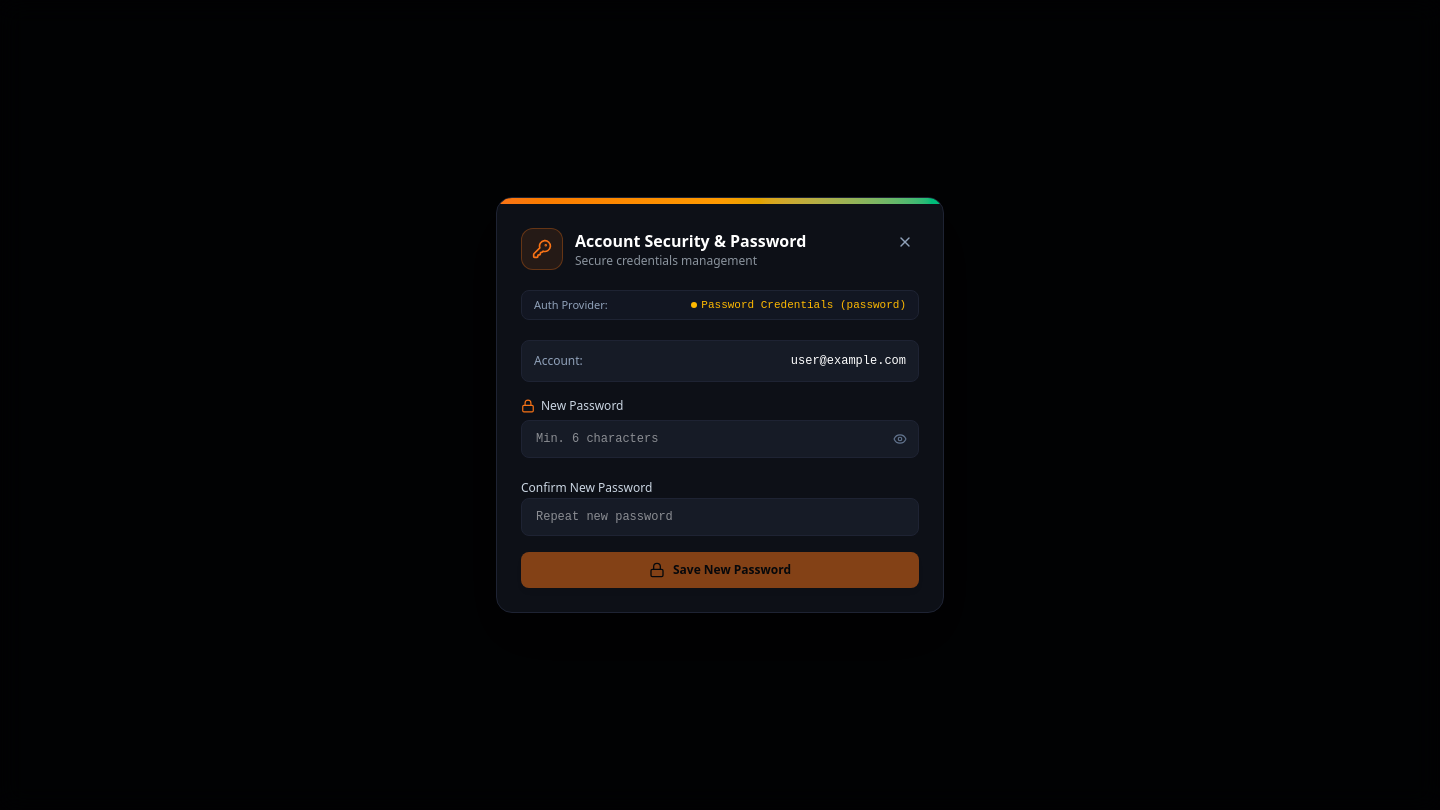
Test case: AuthActionModal Component Tests › Password Reset Flow (mode=resetPassword) › should handle auth/weak-password error on submission
Type "123456" into the password field with placeholder "Min. 6 characters".
click(720, 439); type("123456")  # box [521,420,919,458]
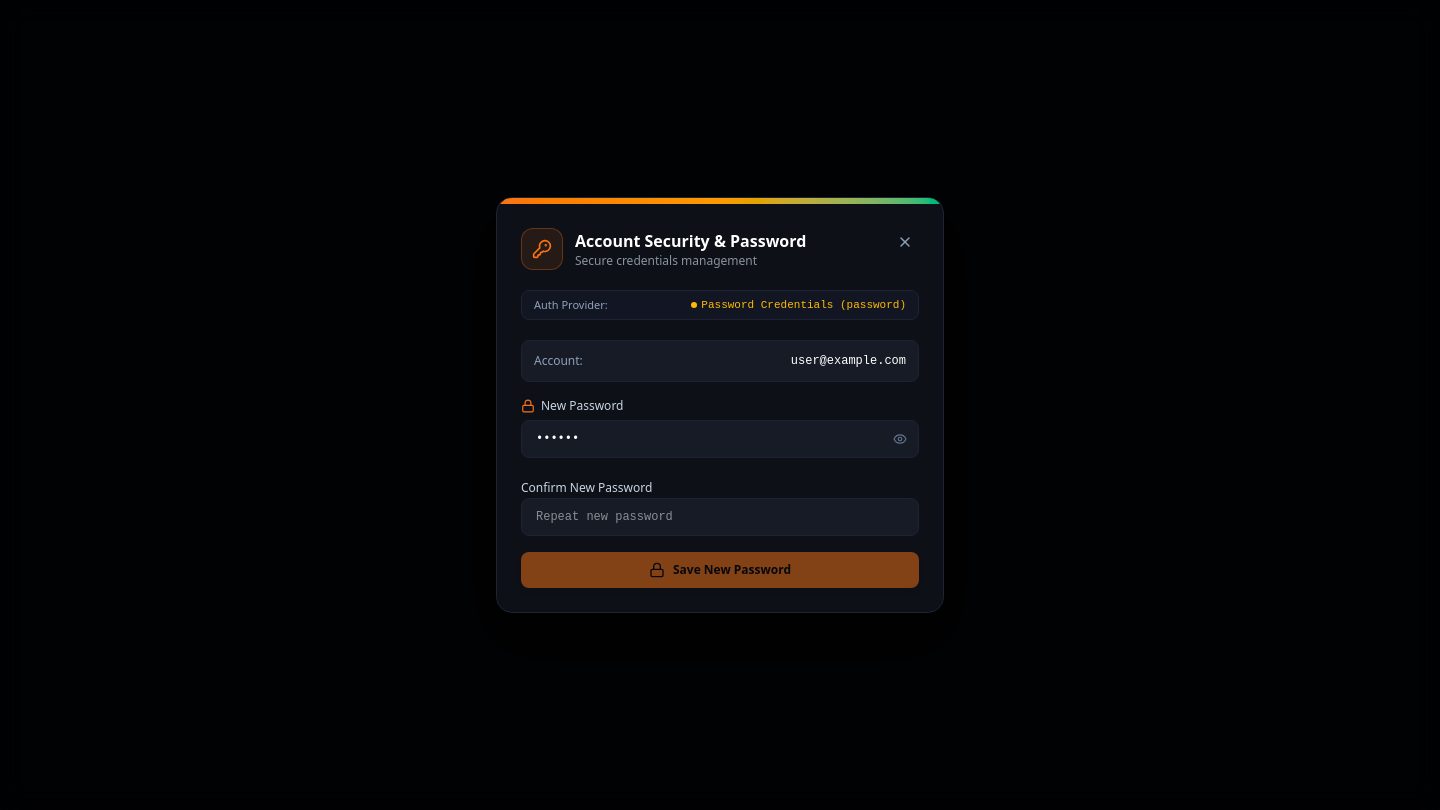
Type "123456" into the password field with placeholder "Repeat new password".
click(720, 517); type("123456")  # box [521,498,919,536]
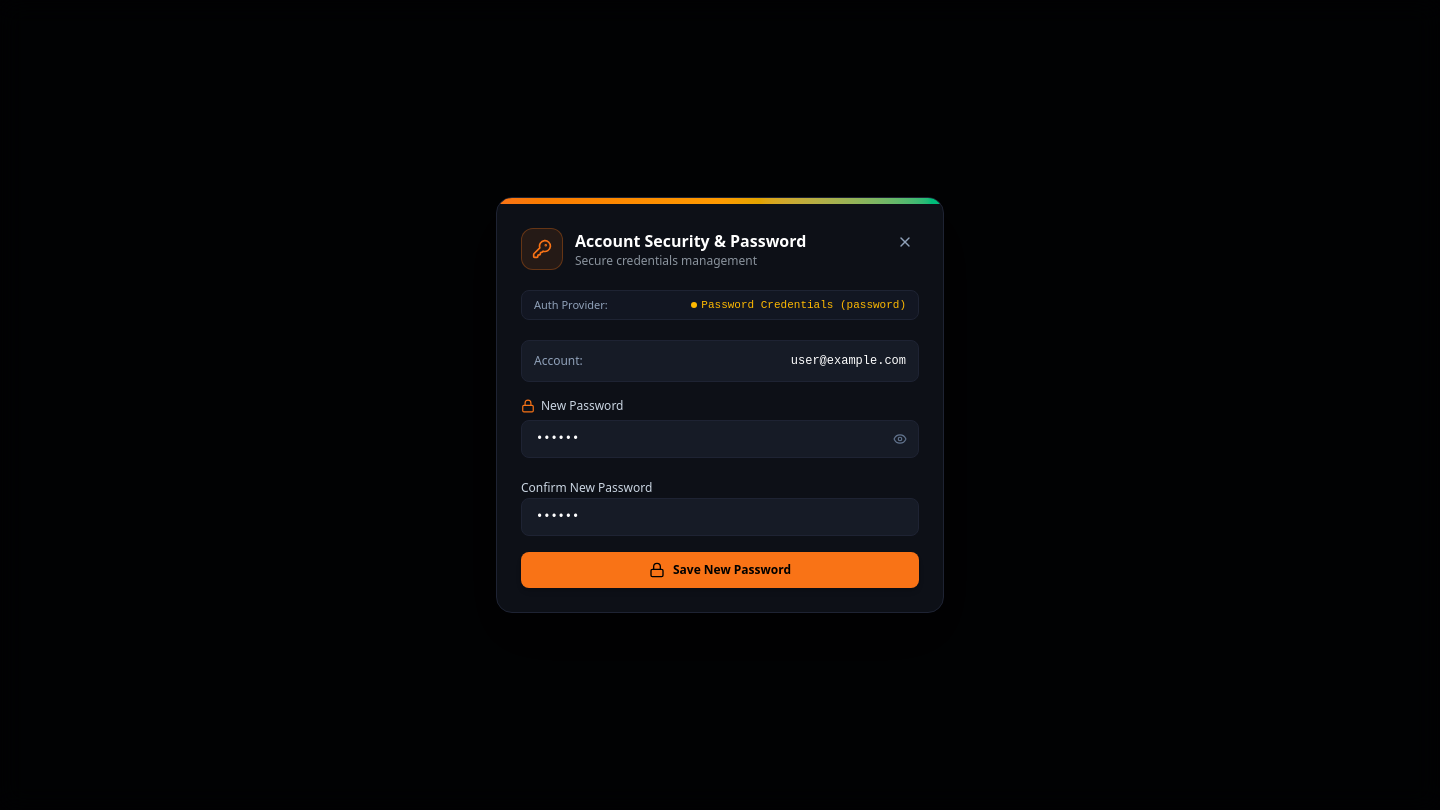
Click the button "Save New Password".
click(720, 570)  # box [521,552,919,588]
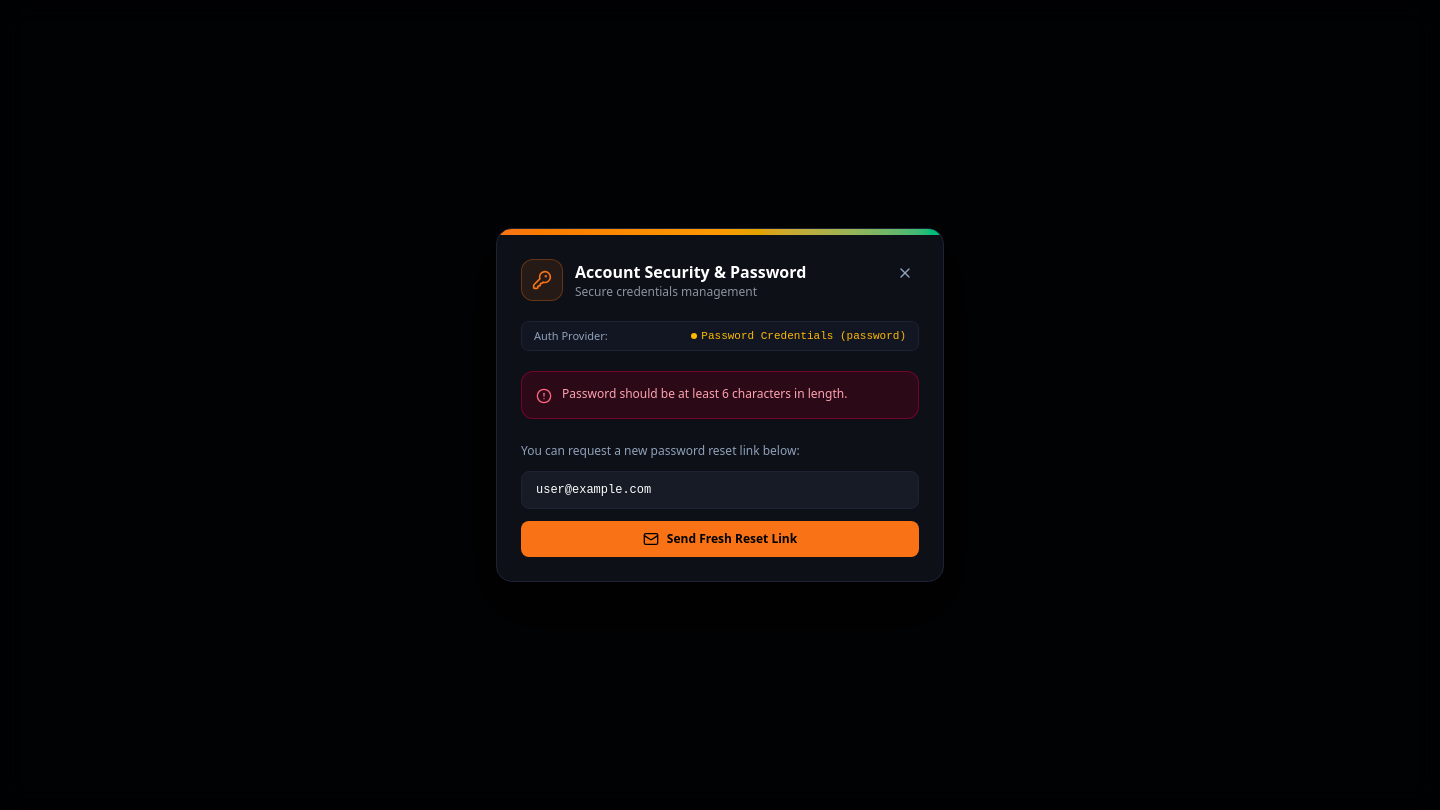
Now the text "Password should be at least 6 characters in length." is shown, box [562,385,847,402]
